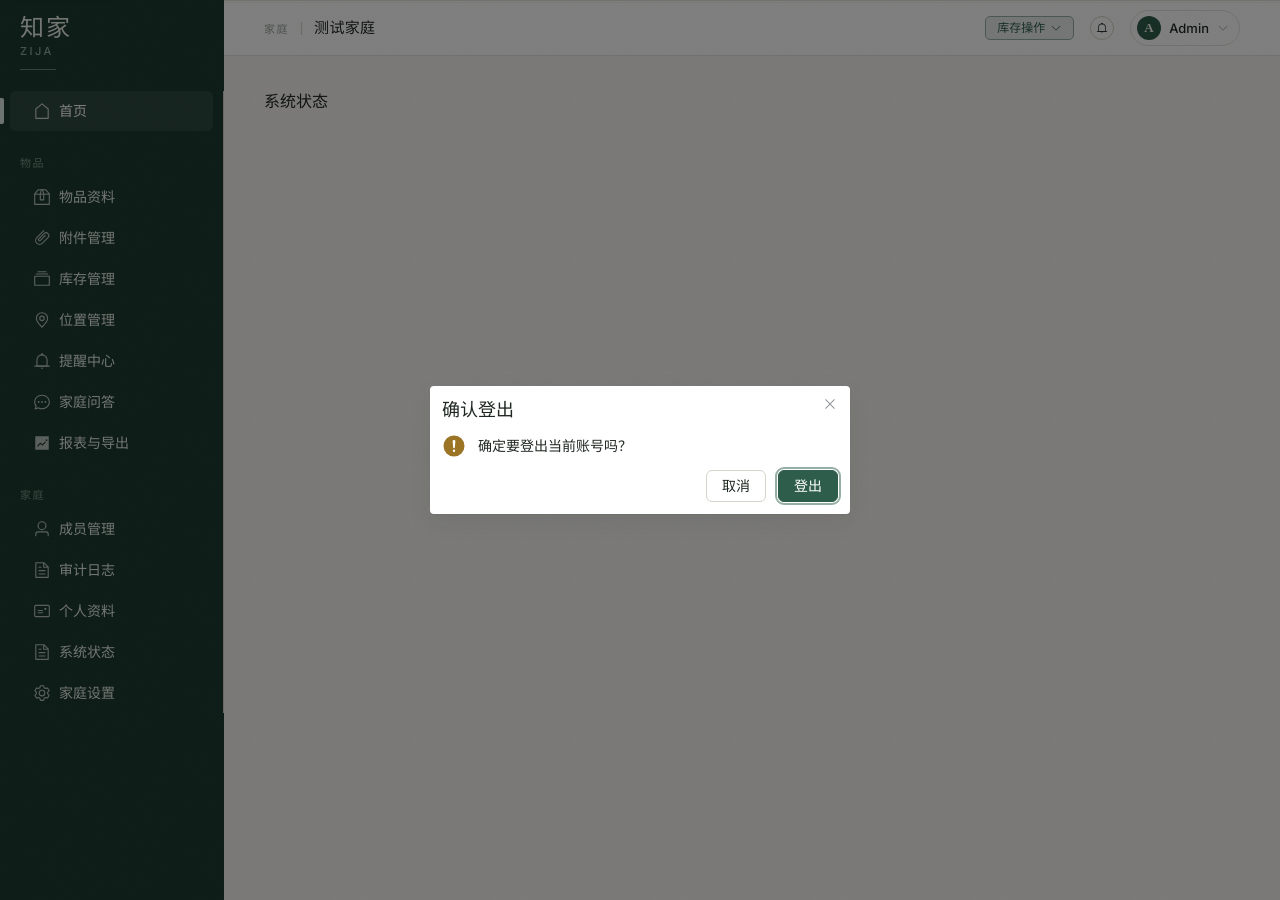
Scenario: AppShell › shows an error and stays on the current route when logout fails
Expected: the element showing "A Admin" is shown, x1=1130 y1=10 x2=1240 y2=46
Expected: the element showing "确认登出 确定要登出当前账号吗？ 取消 登出" is shown, x1=430 y1=386 x2=850 y2=514
What coordinates should you click on to do the following:
click the button "登出"
I would click on:
 (808, 486)
Its box is x1=778 y1=470 x2=838 y2=502.
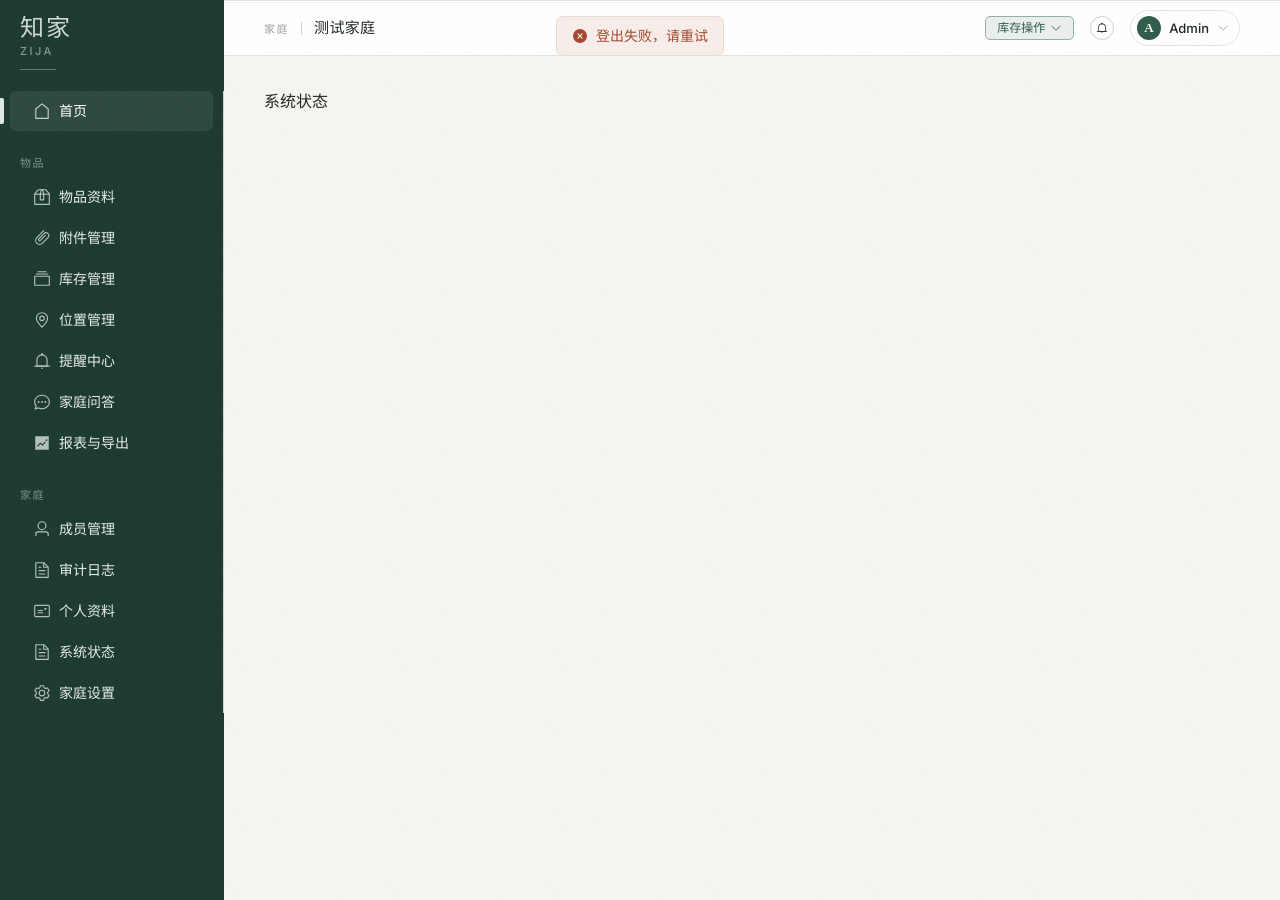
Result: the text "登出失败，请重试" is shown at x1=596 y1=29 x2=708 y2=43
